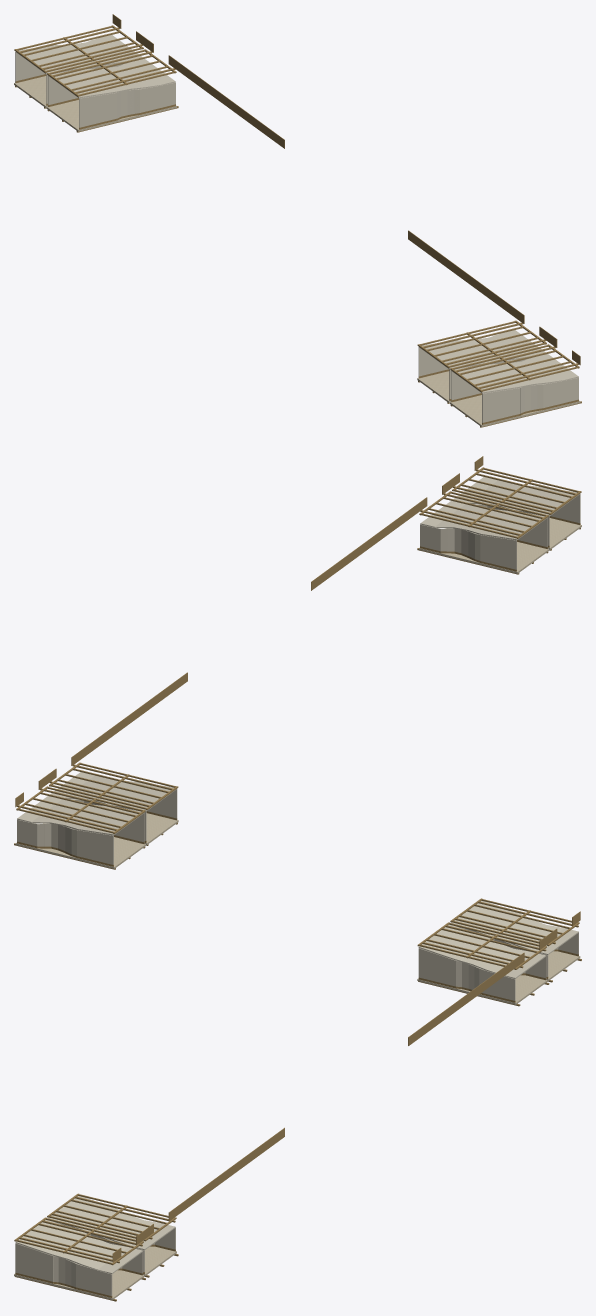
The model's file is StarAtlasSpecialtyFifthReceiving.glb.
3 views of the same model, one above another, from view 1: azimuth 30°, elevation 25°; view 2: azimuth 150°, elevation 25°; view 3: azimuth 330°, elevation 25° (orthographic).
Visible parts, largest first — view 1: SA_D15_NorthFifthWestGuardSegment_2, SA_D15_SouthFifthWestGuardSegment_0, Persistent_431_SUI_Wall_L6, Persistent_401_SUI_Wall_L6, Persistent_401_SUI_Floor, Persistent_431_SUI_Floor, Persistent_431_SUI_Wall_L0, Persistent_401_SUI_Wall_L0, Persistent_425_SUI_Floor, Persistent_407_SUI_Floor; view 2: SA_D15_NorthFifthWestGuardSegment_2, SA_D15_SouthFifthWestGuardSegment_0, Persistent_425_SUI_Wall_R7, Persistent_407_SUI_Wall_R7, Persistent_407_SUI_Floor, Persistent_425_SUI_Floor, Persistent_431_SUI_Floor, Persistent_401_SUI_Floor; view 3: SA_D15_NorthFifthWestGuardSegment_2, SA_D15_SouthFifthWestGuardSegment_0, Persistent_401_SUI_Wall_L6, Persistent_431_SUI_Wall_L6, Persistent_431_SUI_Floor, Persistent_401_SUI_Floor, Persistent_431_SUI_Wall_L0, Persistent_401_SUI_Wall_L0, Persistent_401_SUI_Ceiling_5, Persistent_431_SUI_Ceiling_5, Persistent_425_SUI_Floor, Persistent_407_SUI_Floor (+2 smaller).
Boxes of the visible parts, x1=… form: SA_D15_NorthFifthWestGuardSegment_2: x1=168, y1=55, x2=284, y2=148; SA_D15_SouthFifthWestGuardSegment_0: x1=408, y1=230, x2=524, y2=323; Persistent_431_SUI_Wall_L6: x1=482, y1=388, x2=520, y2=422; Persistent_401_SUI_Wall_L6: x1=79, y1=92, x2=117, y2=127; Persistent_401_SUI_Floor: x1=46, y1=100, x2=176, y2=131; Persistent_431_SUI_Floor: x1=450, y1=395, x2=580, y2=426; Persistent_431_SUI_Wall_L0: x1=549, y1=377, x2=578, y2=406; Persistent_401_SUI_Wall_L0: x1=146, y1=82, x2=175, y2=111; Persistent_425_SUI_Floor: x1=14, y1=76, x2=47, y2=107; Persistent_407_SUI_Floor: x1=417, y1=371, x2=451, y2=402; SA_D15_NorthFifthWestGuardSegment_2: x1=71, y1=672, x2=187, y2=765; SA_D15_SouthFifthWestGuardSegment_0: x1=311, y1=497, x2=427, y2=590; Persistent_425_SUI_Wall_R7: x1=77, y1=830, x2=113, y2=864; Persistent_407_SUI_Wall_R7: x1=480, y1=535, x2=516, y2=569; Persistent_407_SUI_Floor: x1=419, y1=542, x2=549, y2=573; Persistent_425_SUI_Floor: x1=15, y1=823, x2=145, y2=868; Persistent_431_SUI_Floor: x1=548, y1=518, x2=581, y2=549; Persistent_401_SUI_Floor: x1=76, y1=799, x2=178, y2=844; SA_D15_NorthFifthWestGuardSegment_2: x1=408, y1=952, x2=524, y2=1045; SA_D15_SouthFifthWestGuardSegment_0: x1=168, y1=1127, x2=284, y2=1221; Persistent_401_SUI_Wall_L6: x1=418, y1=948, x2=456, y2=986; Persistent_431_SUI_Wall_L6: x1=15, y1=1243, x2=53, y2=1281; Persistent_431_SUI_Floor: x1=14, y1=1270, x2=144, y2=1299; Persistent_401_SUI_Floor: x1=417, y1=975, x2=547, y2=1004; Persistent_431_SUI_Wall_L0: x1=82, y1=1265, x2=112, y2=1295; Persistent_401_SUI_Wall_L0: x1=485, y1=970, x2=515, y2=1000; Persistent_401_SUI_Ceiling_5: x1=418, y1=924, x2=468, y2=954; Persistent_431_SUI_Ceiling_5: x1=15, y1=1220, x2=64, y2=1249; Persistent_425_SUI_Floor: x1=546, y1=951, x2=580, y2=980; Persistent_407_SUI_Floor: x1=143, y1=1246, x2=176, y2=1275.
Bounding box in the file's own units: 13.25 × 6 × 106.
Materials: 9 (9 with a texture image).
